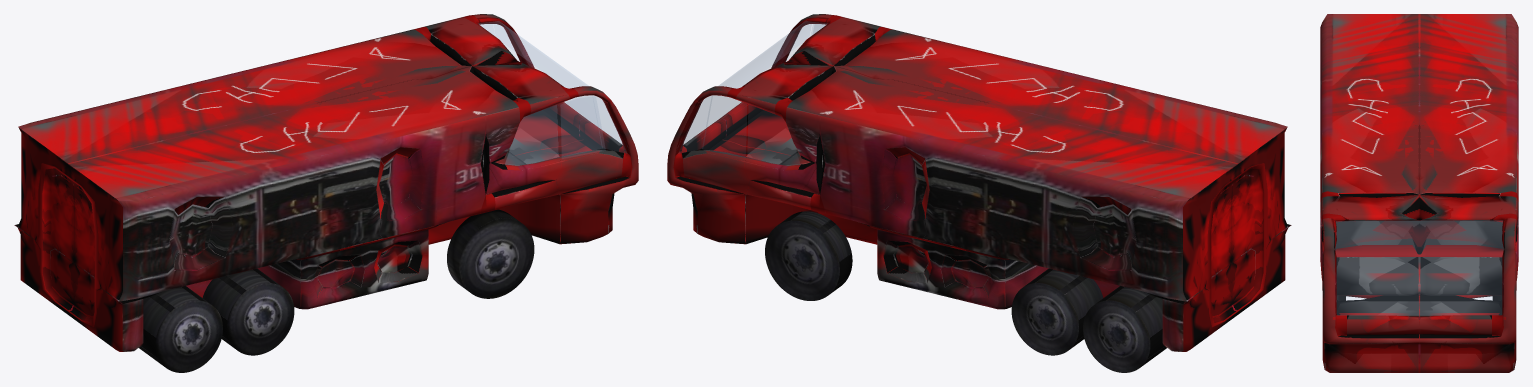
Rendered from firetruck.fbx.
3 renders of one model, left to right at view 1: azimuth 30°, elevation 25°; view 2: azimuth 150°, elevation 25°; view 3: azimuth 270°, elevation 25°, orthographic. The views are drawn at different scales.
Parts seen in each view (by area): view 1: BodyWork, Wheel0, Wheel3, Wheel5, Winodows0, DoorRight, DoorRight.001; view 2: BodyWork, Wheel1, Wheel2, Wheel4, Winodows0, DoorLeft; view 3: BodyWork, Winodows0.
Boxes of the visible parts, left/top/right/bottom form: BodyWork: left=14, top=14, right=638, bottom=351; Wheel0: left=447, top=209, right=534, bottom=298; Wheel3: left=202, top=268, right=294, bottom=355; Wheel5: left=139, top=286, right=222, bottom=372; Winodows0: left=479, top=21, right=626, bottom=165; DoorRight: left=561, top=97, right=605, bottom=158; DoorRight.001: left=557, top=96, right=601, bottom=156; BodyWork: left=667, top=14, right=1291, bottom=351; Wheel1: left=765, top=211, right=852, bottom=300; Wheel2: left=1011, top=268, right=1103, bottom=355; Wheel4: left=1083, top=286, right=1166, bottom=372; Winodows0: left=679, top=21, right=826, bottom=165; DoorLeft: left=702, top=96, right=746, bottom=156; BodyWork: left=1320, top=14, right=1518, bottom=372; Winodows0: left=1335, top=221, right=1502, bottom=314.
Size of the model in its own units: 19.96 by 7.01 by 7.23.
Materials: 4 (3 with a texture image).
